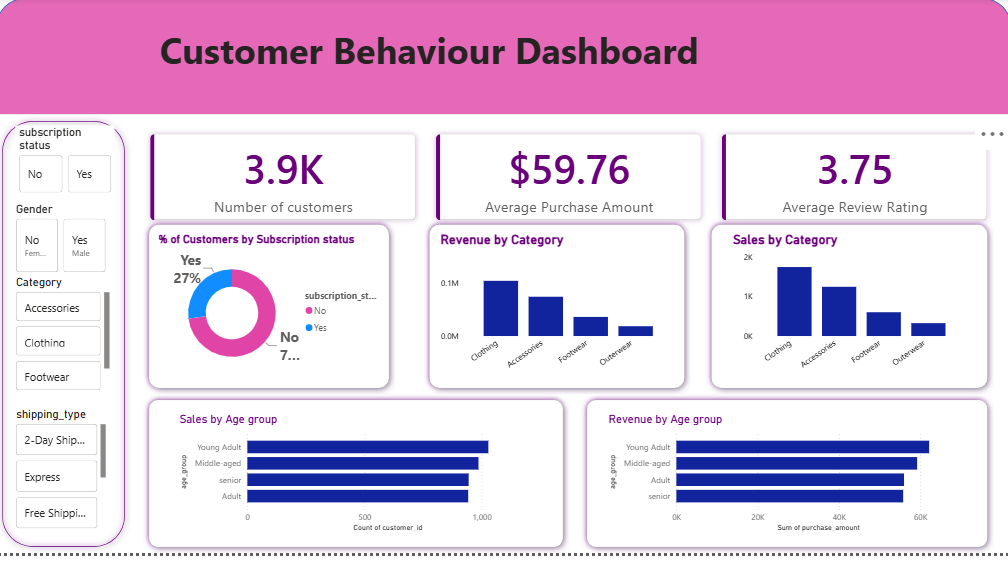

The dashboard page shown, as its layout file describes it:
{"tool":"powerbi","page":{"name":"Page 1","canvas":[1500,820],"ordinal":0},"visuals":[{"type":"cardVisual","fields":{"Data":["public customer.Number of customers","public customer.Average Purchase Amount","public customer.Average Review Rating"]},"box":[199.3,172.7,1293.3,183.8],"z":0},{"type":"shape","box":[0,0,1499.3,172.7],"z":1000},{"type":"textbox","box":[0,35.9,1279.4,102],"z":2000},{"type":"shape","box":[217,325.5,372.1,259.1],"z":3000},{"type":"donutChart","title":"% of Customers by Subscription status","fields":{"Category":["public customer.subscription_status"],"Y":["CountNonNull(public customer.customer_id)"]},"box":[234.7,345.5,336.6,219.2],"z":4000},{"type":"shape","box":[631.2,325.5,394.2,259.1],"z":5000},{"type":"shape","box":[1047.5,325.5,425.2,259.1],"z":6000},{"type":"clusteredColumnChart","title":"Revenue by  Category","fields":{"Y":["Sum(public customer.purchase_amount)"],"Category":["public customer.category"]},"box":[651.1,345.5,352.1,219.2],"z":7000},{"type":"clusteredColumnChart","title":"Sales by Category","fields":{"Y":["CountNonNull(public customer.customer_id)"],"Category":["public customer.category"]},"box":[1082.9,345.5,352.1,219.2],"z":8000},{"type":"shape","box":[0,172.7,199.3,646.7],"z":9000},{"type":"advancedSlicerVisual","title":"subscription status","fields":{"Values":["public customer.subscription_status"]},"box":[28.8,188.2,146.2,104.1],"z":10000},{"type":"advancedSlicerVisual","title":"Gender","fields":{"Values":["public customer.subscription_status"],"Label":["Min(public customer.gender)"]},"box":[24.4,301.2,143.9,108.5],"z":11000},{"type":"advancedSlicerVisual","title":"Category","fields":{"Values":["public customer.category"]},"box":[24.4,409.7,148.4,175],"z":12000},{"type":"advancedSlicerVisual","fields":{"Values":["public customer.shipping_type"]},"box":[24.4,604.6,143.9,183.8],"z":13000},{"type":"shape","box":[217,584.7,628.9,234.7],"z":14000},{"type":"clusteredBarChart","title":"Sales by Age group","fields":{"Y":["CountNonNull(public customer.customer_id)"],"Category":["public customer.age_group"]},"box":[265.8,611.2,540.4,181.6],"z":15000},{"type":"shape","box":[863.7,584.7,609,234.7],"z":16000},{"type":"clusteredBarChart","title":"Revenue by Age group","fields":{"Y":["Sum(public customer.purchase_amount)"],"Category":["public customer.age_group"]},"box":[899.1,611.2,540.4,181.6],"z":16001}]}

Visuals, with their boxes on the page's 1500x820 design canvas (x1, y1, x2, y2). These are canvas units, not pixel positions in the 1008x586 screenshot, which may show the page scaled, cropped or inside an application window:
cardVisual - public customer.Number of customers x public customer.Average Purchase Amount: l=199, t=173, r=1493, b=356
shape: l=0, t=0, r=1499, b=173
textbox: l=0, t=36, r=1279, b=138
shape: l=217, t=326, r=589, b=585
"% of Customers by Subscription status" donutChart: l=235, t=346, r=571, b=565
shape: l=631, t=326, r=1025, b=585
shape: l=1048, t=326, r=1473, b=585
"Revenue by  Category" clusteredColumnChart: l=651, t=346, r=1003, b=565
"Sales by Category" clusteredColumnChart: l=1083, t=346, r=1435, b=565
shape: l=0, t=173, r=199, b=819
"subscription status" advancedSlicerVisual: l=29, t=188, r=175, b=292
"Gender" advancedSlicerVisual: l=24, t=301, r=168, b=410
"Category" advancedSlicerVisual: l=24, t=410, r=173, b=585
advancedSlicerVisual - public customer.shipping_type: l=24, t=605, r=168, b=788
shape: l=217, t=585, r=846, b=819
"Sales by Age group" clusteredBarChart: l=266, t=611, r=806, b=793
shape: l=864, t=585, r=1473, b=819
"Revenue by Age group" clusteredBarChart: l=899, t=611, r=1440, b=793
